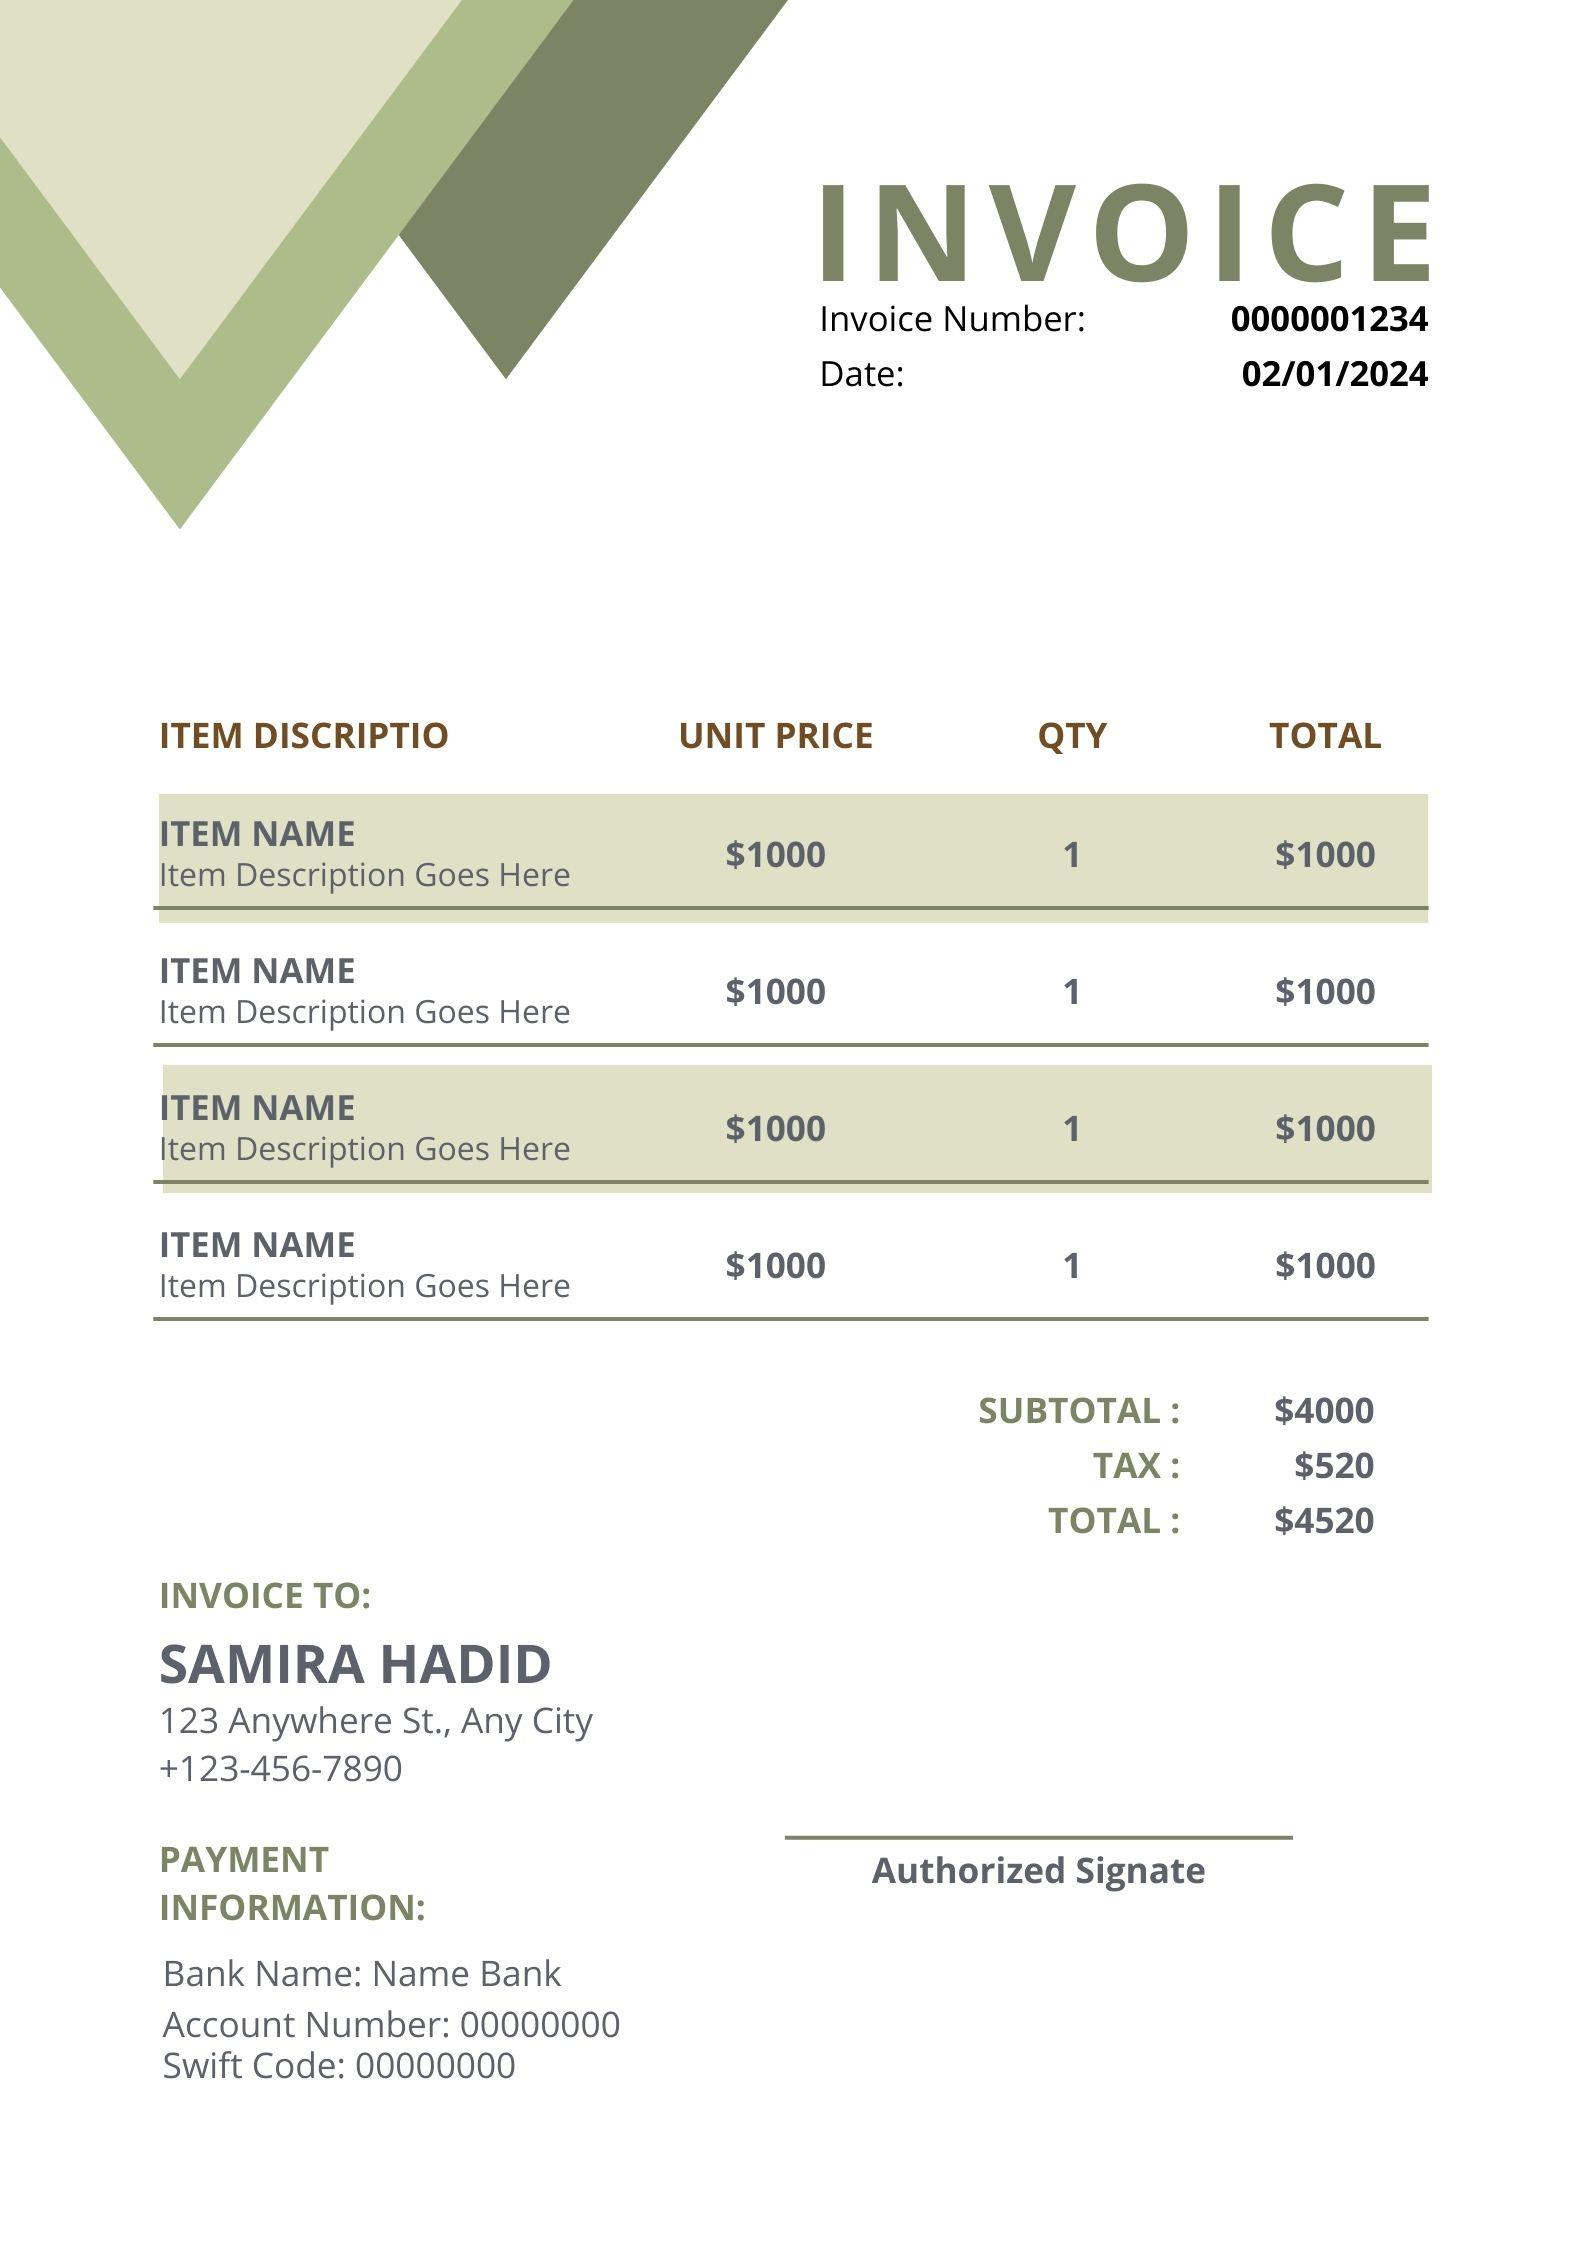ROI: (120, 687, 1453, 1340), (107, 1830, 687, 2110), (103, 1520, 637, 1817), (907, 1370, 1463, 1580), (767, 293, 1447, 410)
